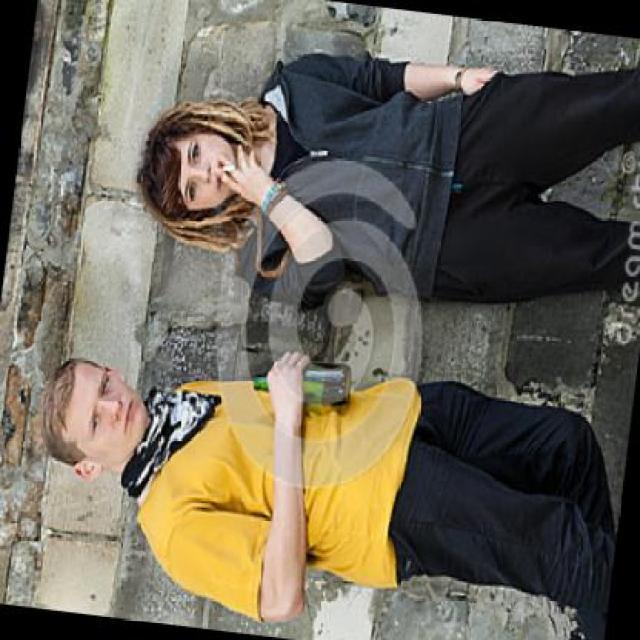cigarette: (216, 157, 239, 176)
